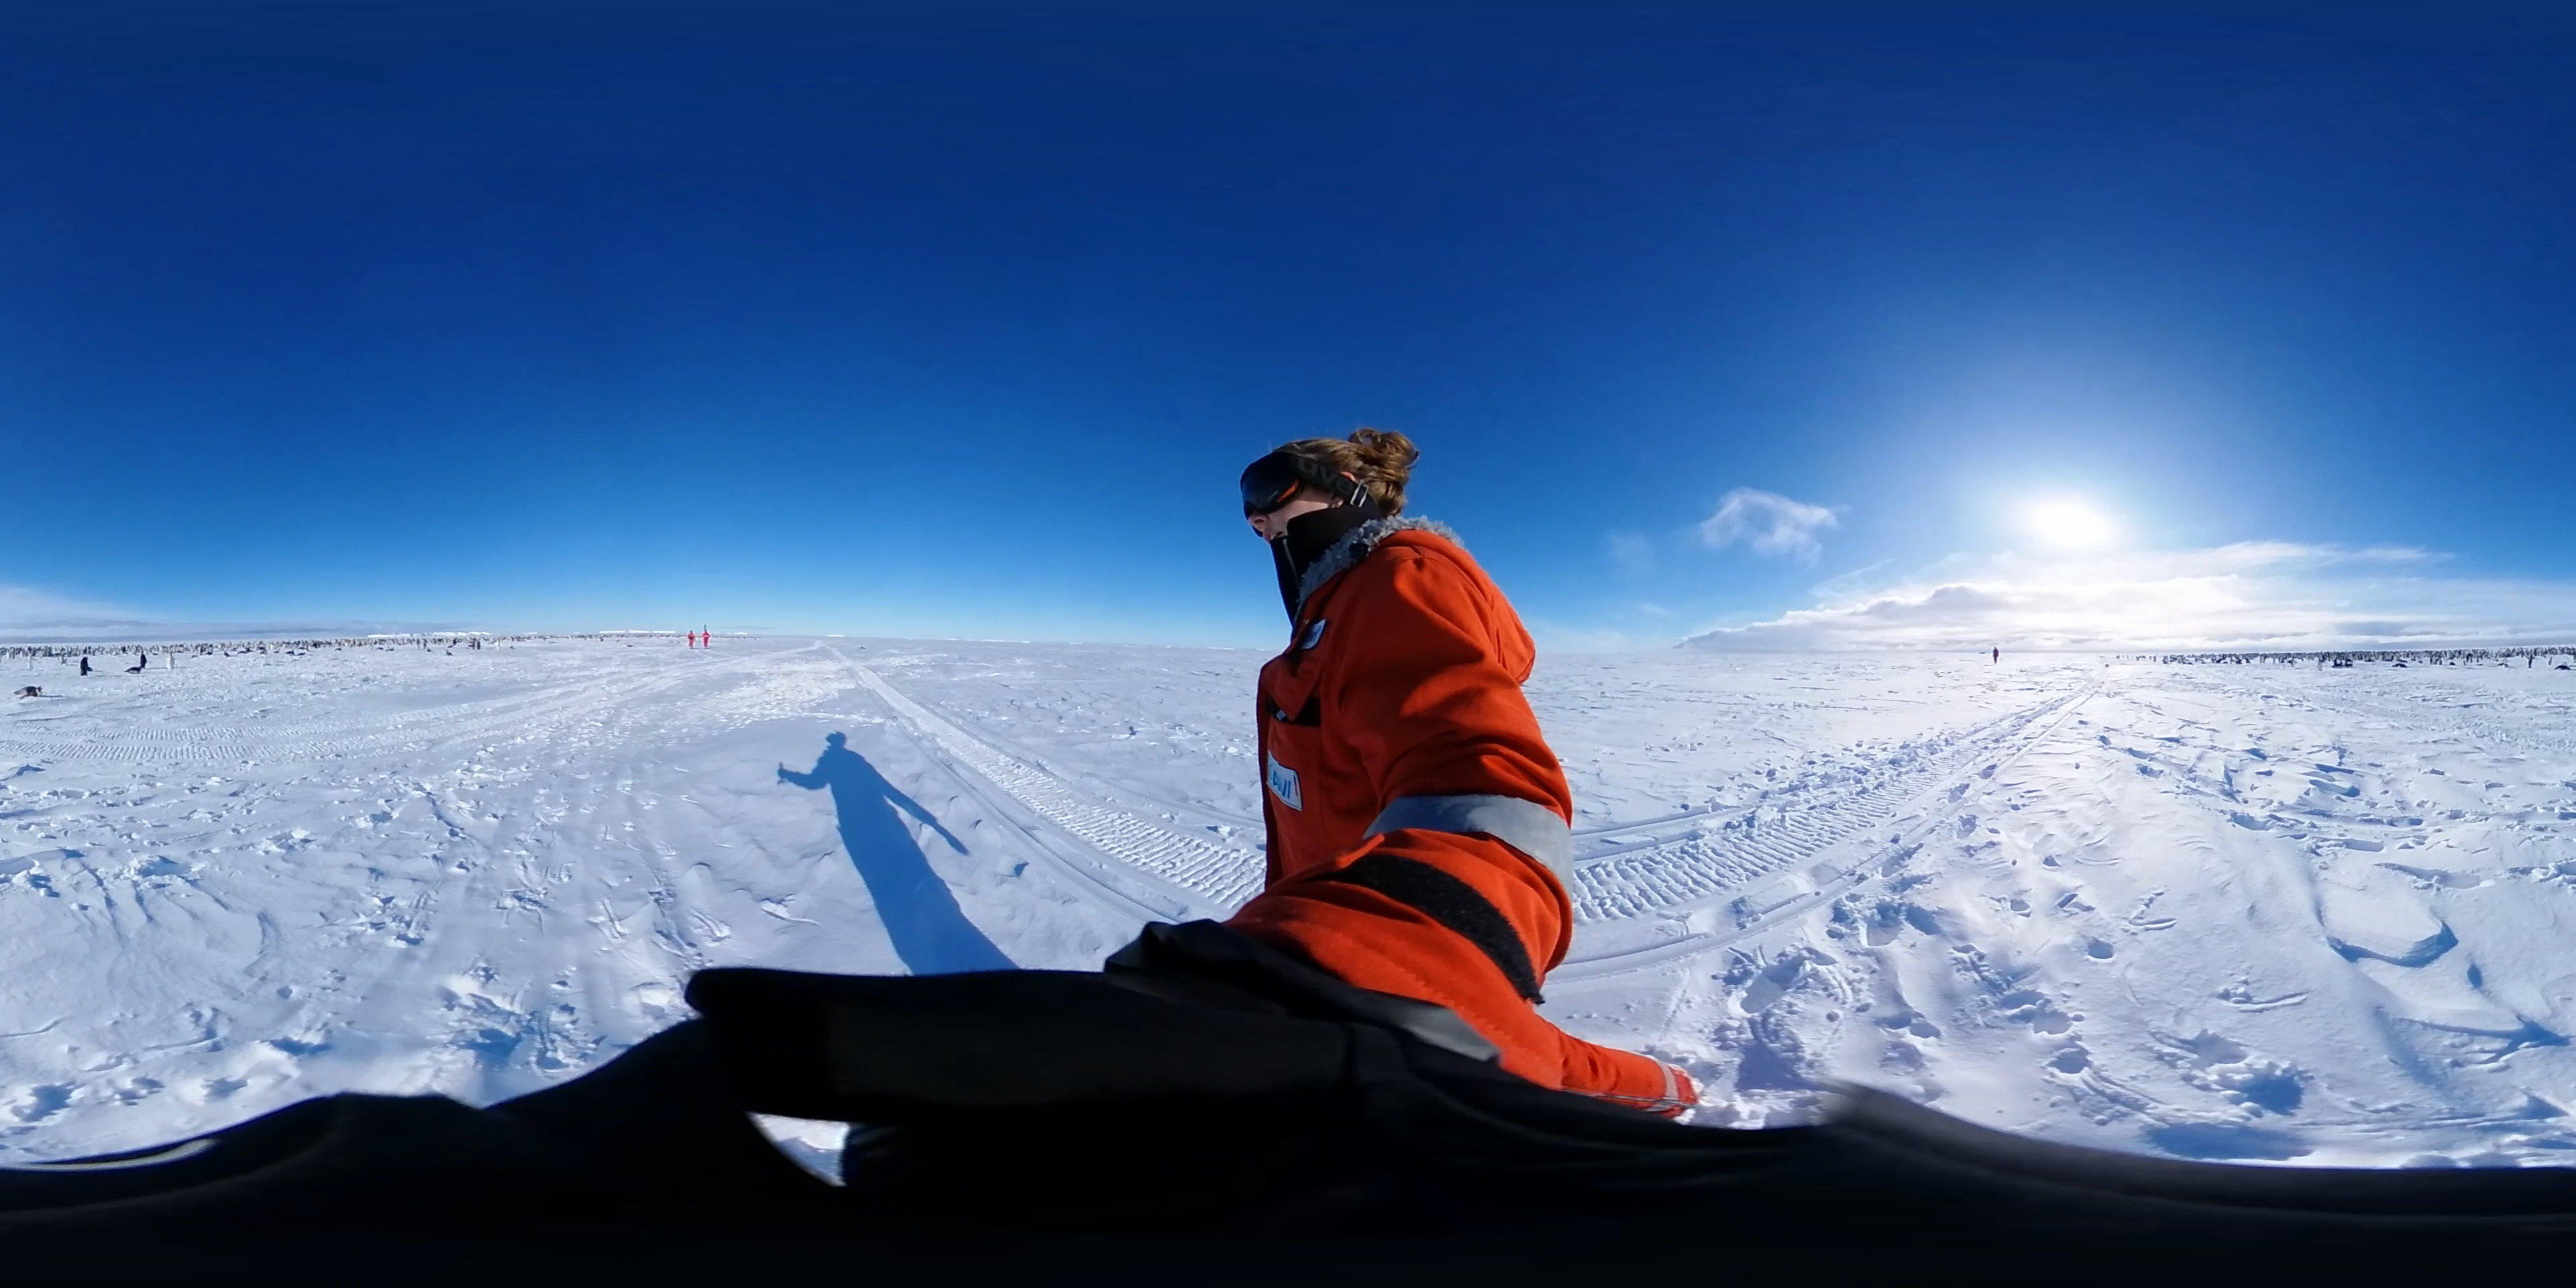adult_standing_penguin: (138, 651, 153, 670), (79, 655, 90, 677)
adult_toboggan_penguin: (11, 680, 48, 698), (122, 665, 143, 677)
researcher: (1222, 424, 1580, 1000), (1989, 644, 1999, 667), (701, 628, 711, 649), (688, 628, 695, 651)
